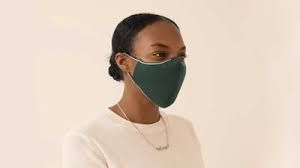with-mask: (106, 16, 195, 111)
